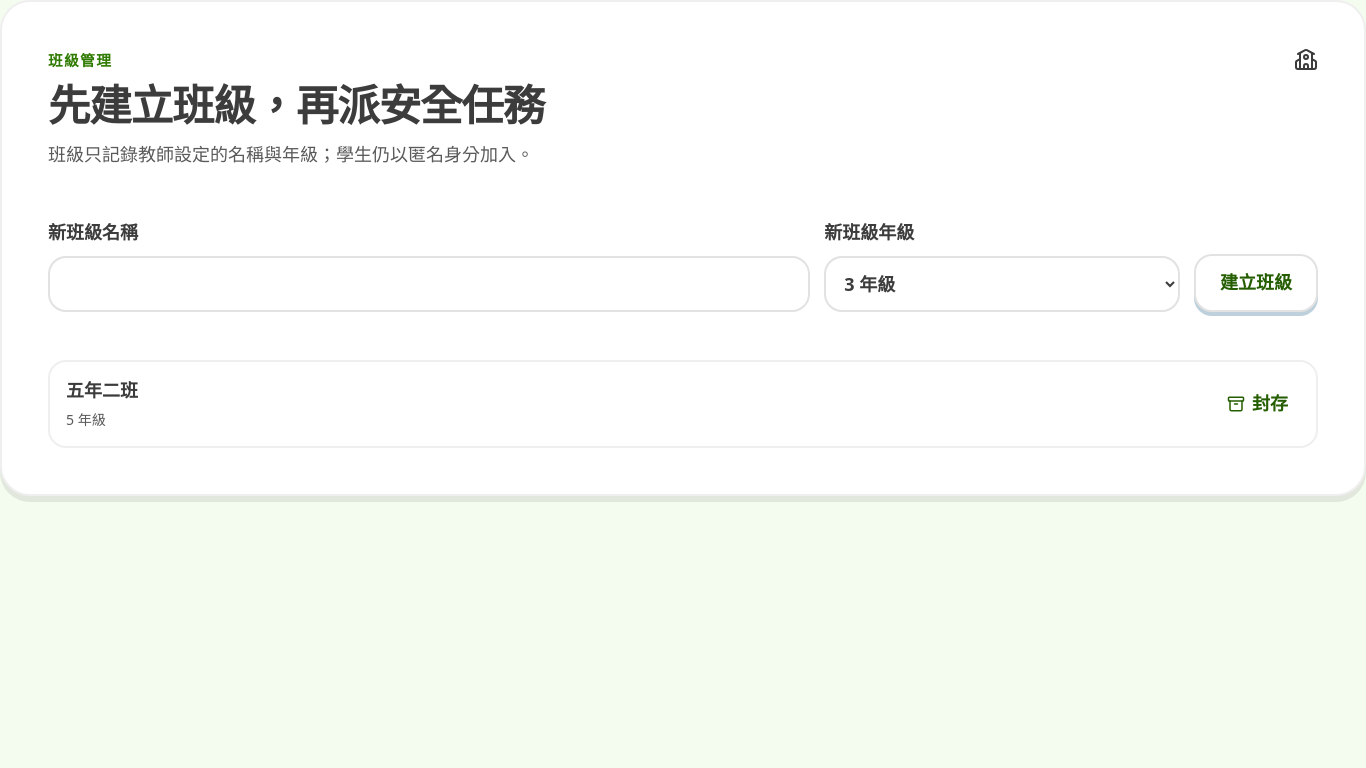
Test: TeacherClassroomManager › creates a classroom and requires confirmation before archiving
The width and height of the screenshot is (1366, 768).
Step 1. Type "四年一班" into the field labelled "新班級名稱" → (429, 284), box [48,256,810,312]
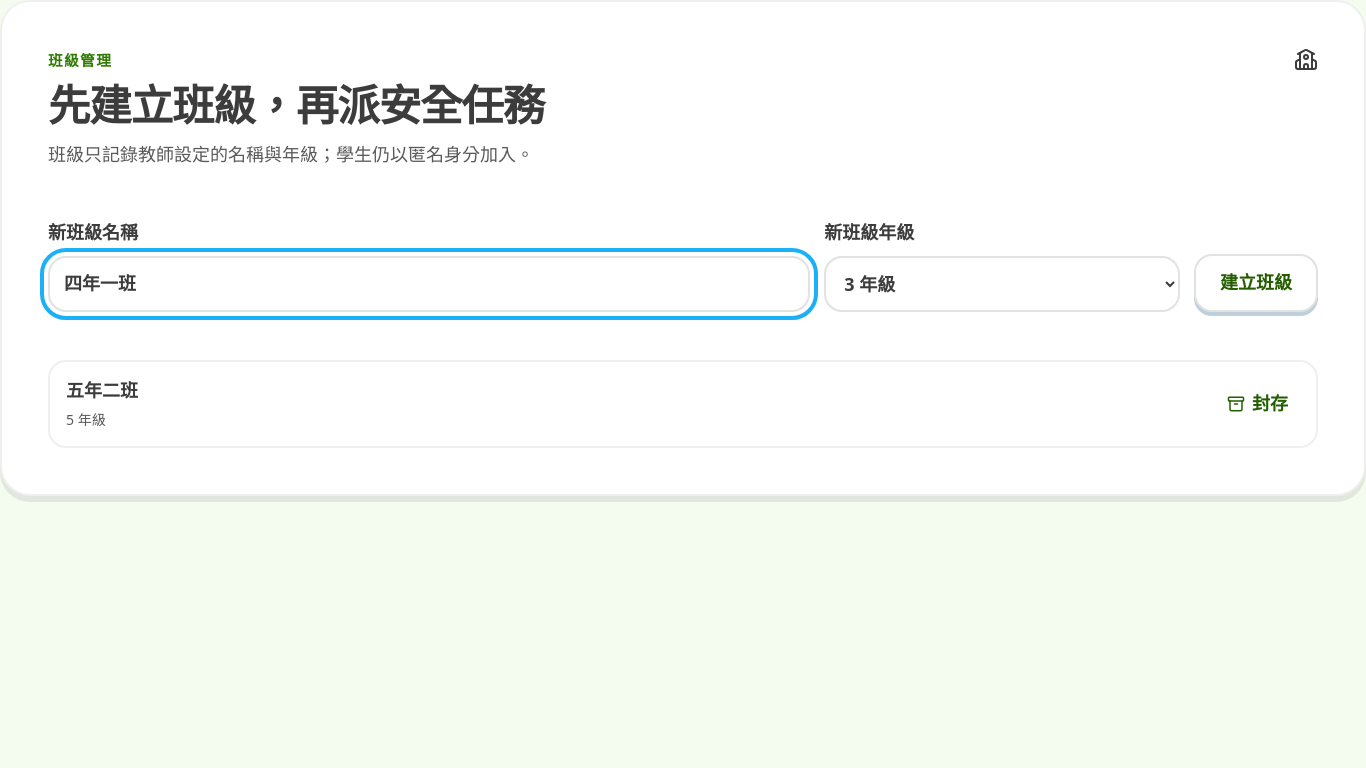
Step 2. Select "4 年級" in the dropdown labelled "新班級年級" → (1002, 284), box [824,256,1180,312]
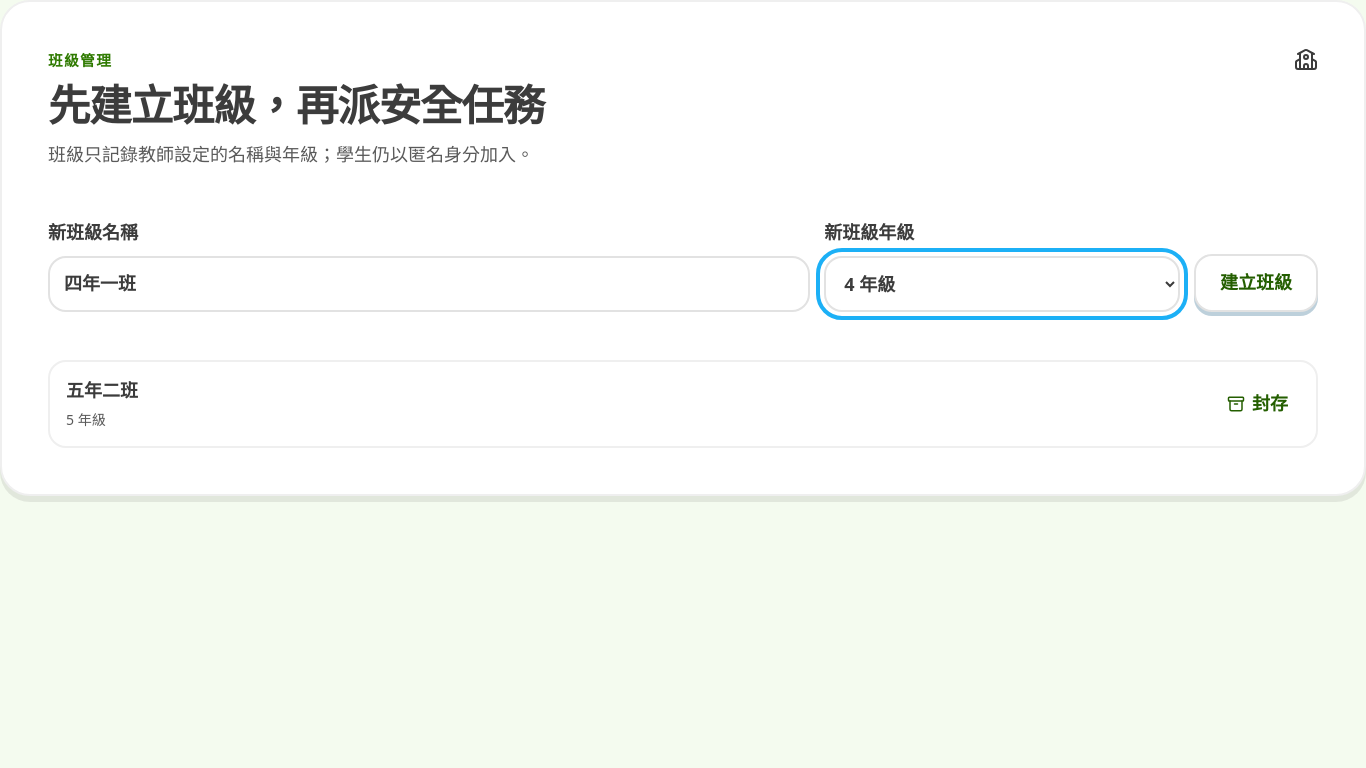
Step 3. Click the button "建立班級" → click(1256, 283), box [1194,254,1318,312]
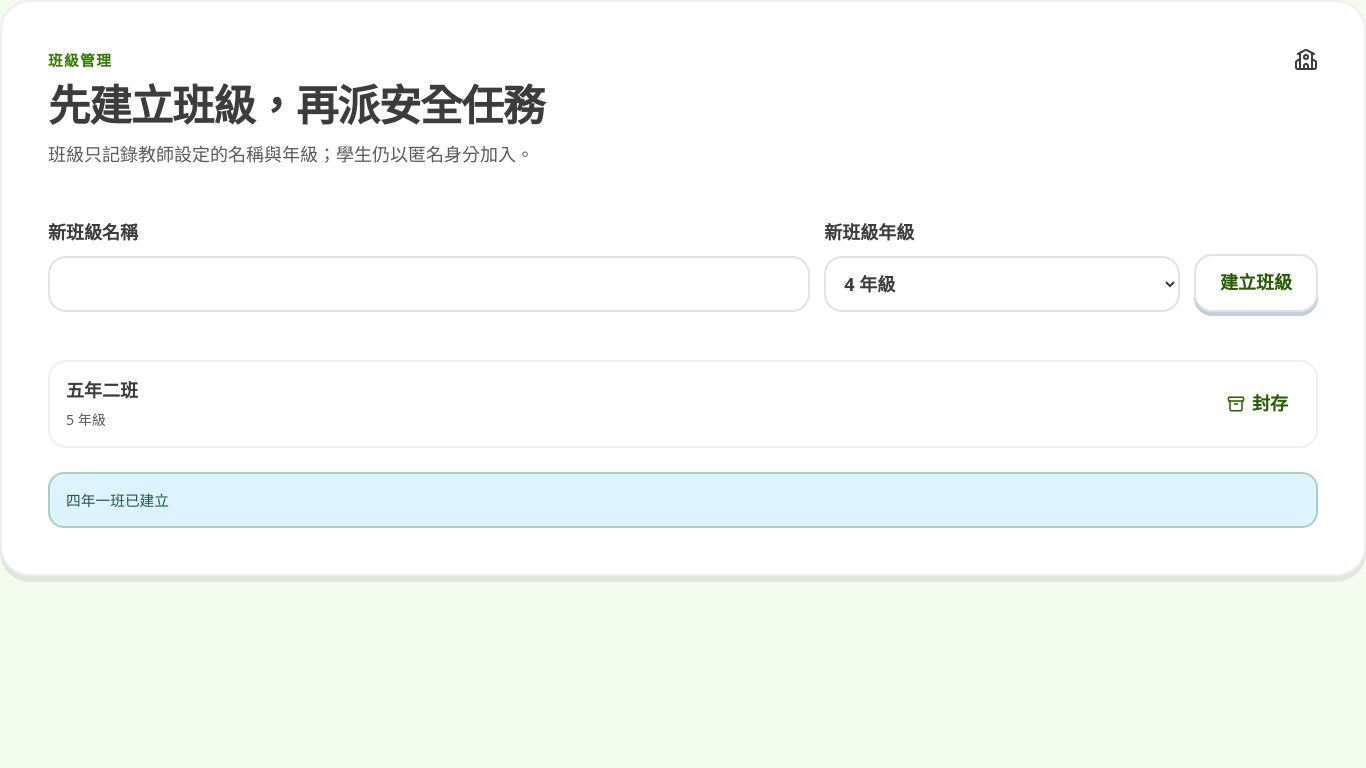
Expected: the text "四年一班已建立" is shown, [48,472,1318,528]
Step 4. Click the button with aria-label "封存五年二班" → click(1258, 404), box [1215,381,1300,426]
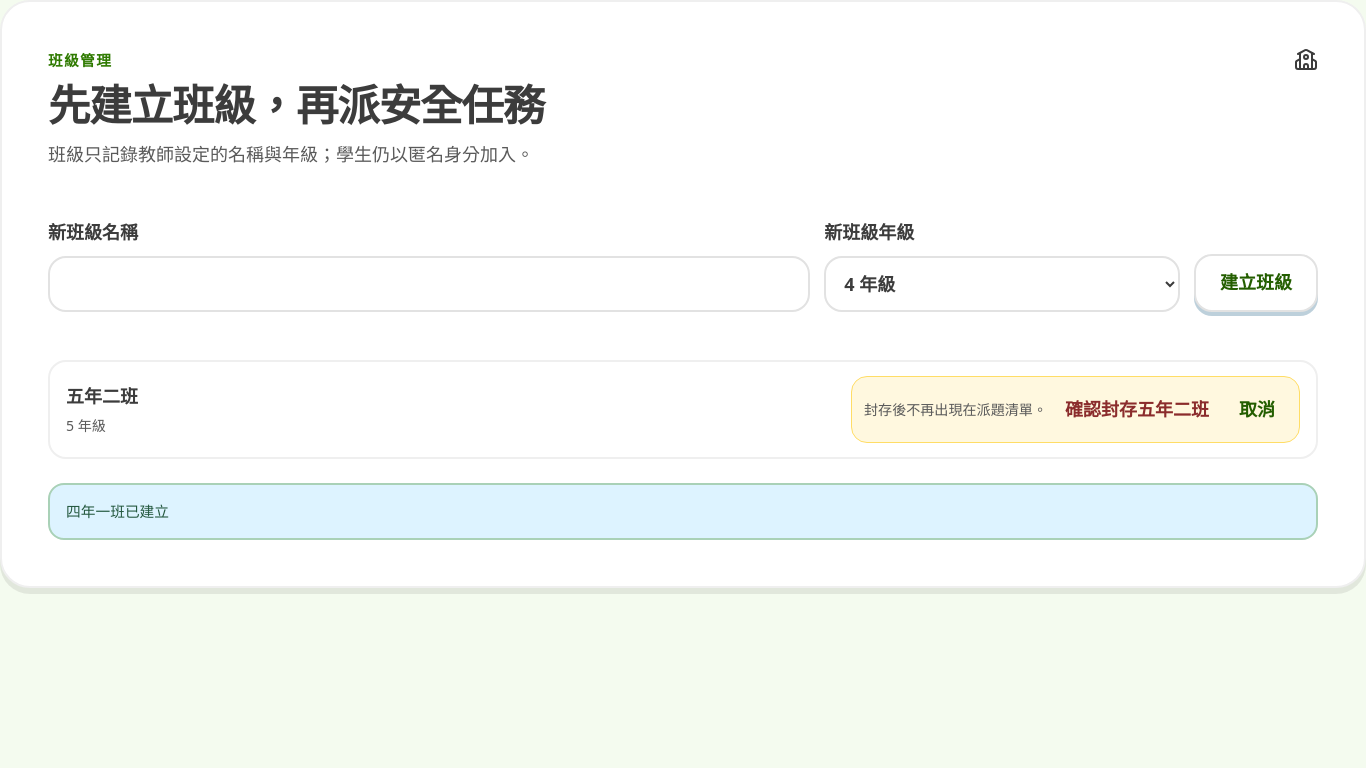
Step 5. Click the button "確認封存五年二班" → click(1137, 410), box [1053,387,1221,432]
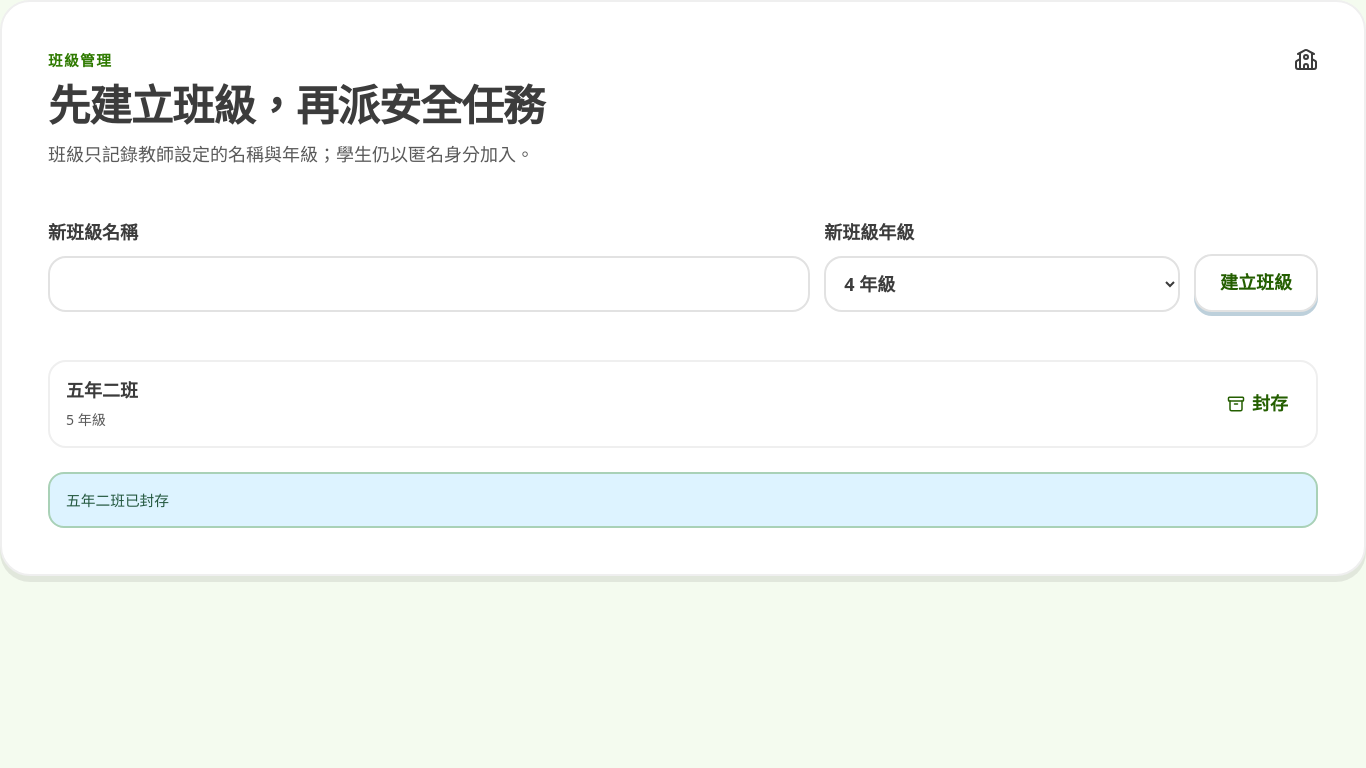
Expected: the text "五年二班已封存" is shown, [48,472,1318,528]
